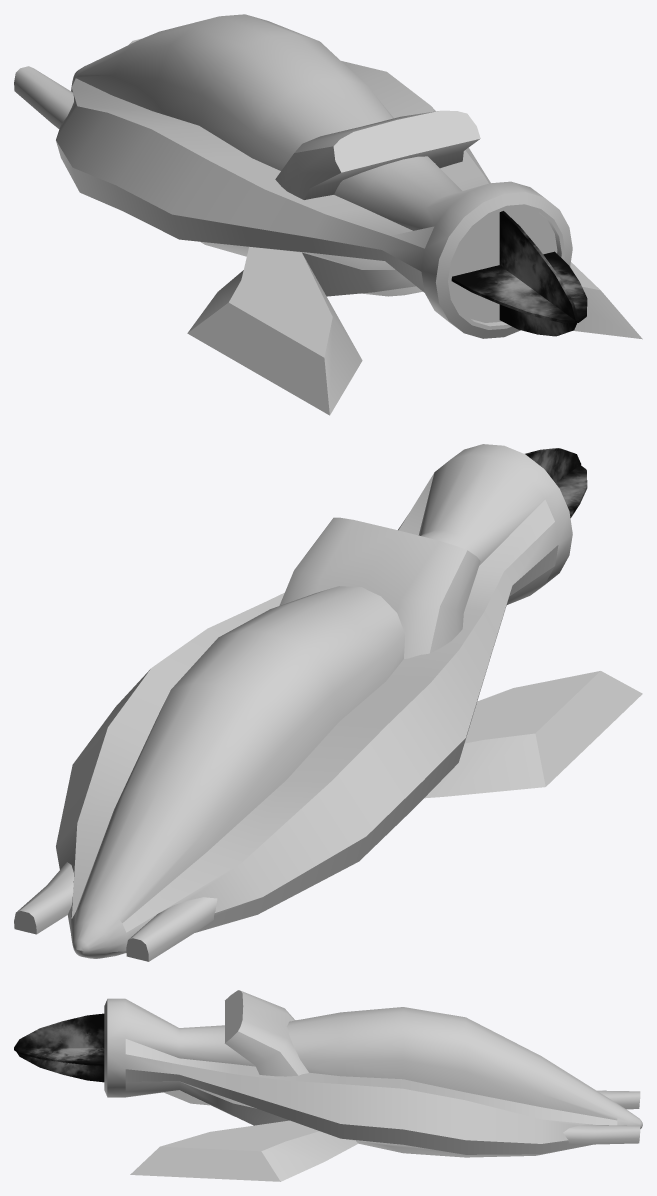
File: boat_02.fbx
The picture shows the model from 3 angles, top to bottom: view 1: azimuth 30°, elevation 25°; view 2: azimuth 150°, elevation 25°; view 3: azimuth 270°, elevation 25°; orthographic projection. The views are drawn at different scales.
Visible parts, largest first — view 1: boat_02_mesh, fire; view 2: boat_02_mesh, fire; view 3: boat_02_mesh, fire.
Boxes of the visible parts, <box> form: boat_02_mesh: <box>14,14,642,415</box>; fire: <box>451,211,587,336</box>; boat_02_mesh: <box>14,444,642,961</box>; fire: <box>525,448,587,517</box>; boat_02_mesh: <box>104,990,642,1181</box>; fire: <box>14,1013,104,1082</box>.
Bounding box in the file's own units: 14.48 × 8.67 × 34.96.
